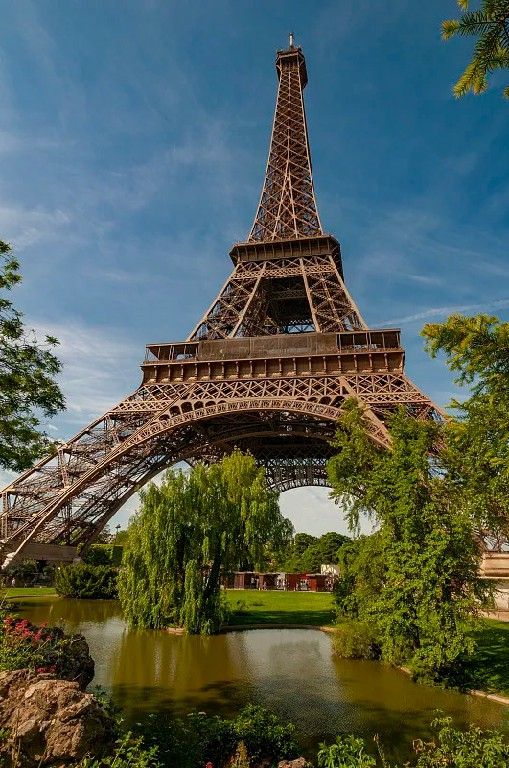Eiffel: (1, 30, 509, 608)
